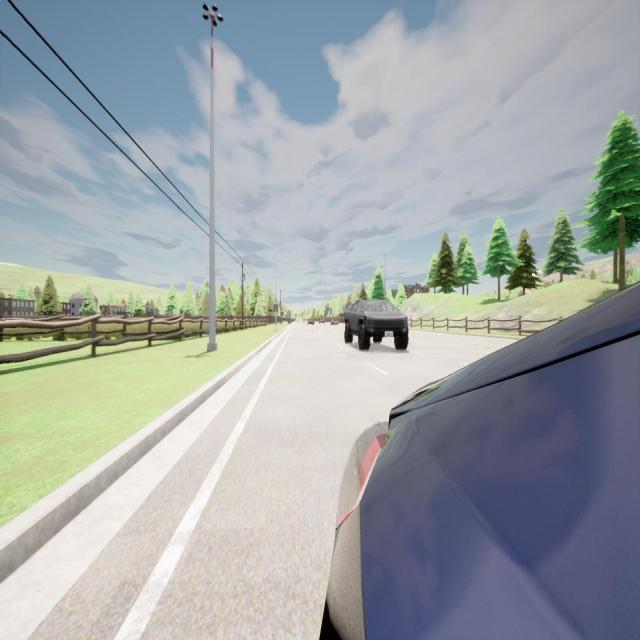Traffic_Signs: (274, 304, 278, 312)
Vehicle: (327, 284, 639, 638), (344, 300, 408, 351), (330, 320, 339, 325), (307, 319, 314, 325), (319, 318, 325, 324)
